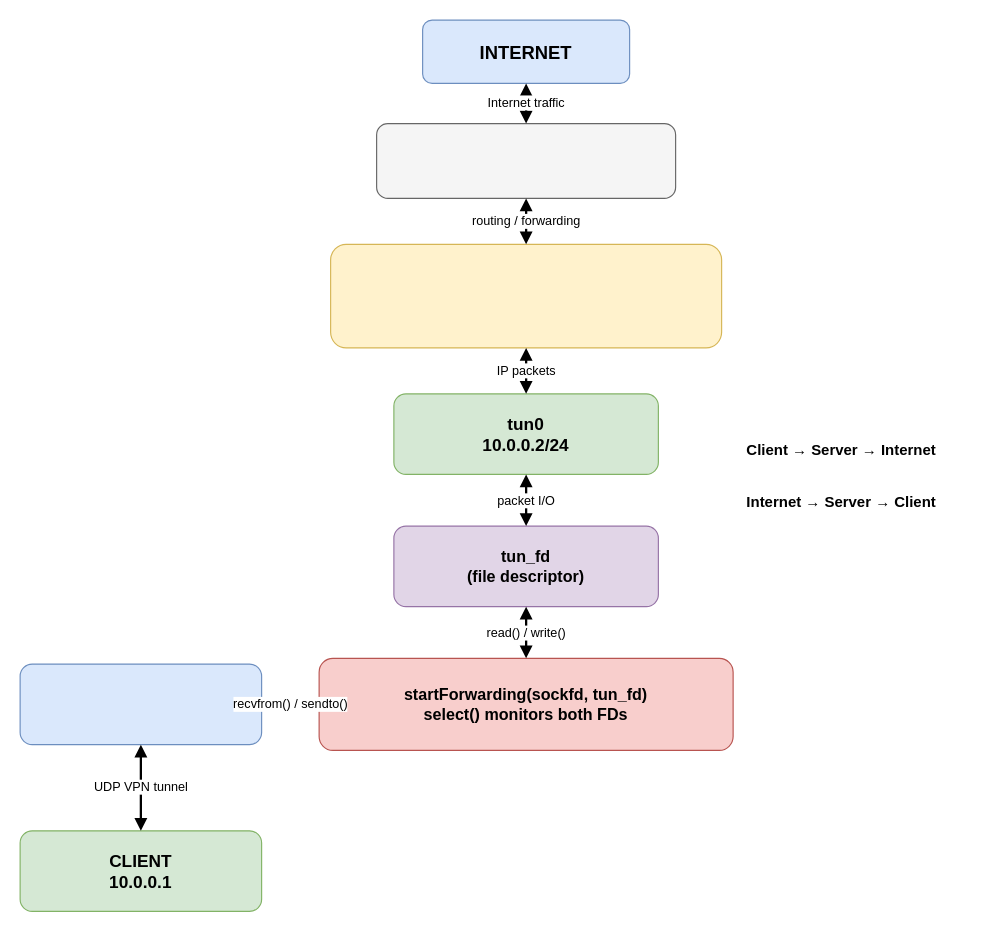
This 1006x932 diagram has some shape labels left out. Here are the shapes that lost their labels. From the top down, the box of each, then its label:
(375, 122, 676, 198): External Interface eth0 / ens...
(329, 243, 722, 348): Linux Networking IP Forwarding + NAT iptables MASQUERADE / FORWARD
(19, 663, 262, 745): sockfd UDP socket :8080
